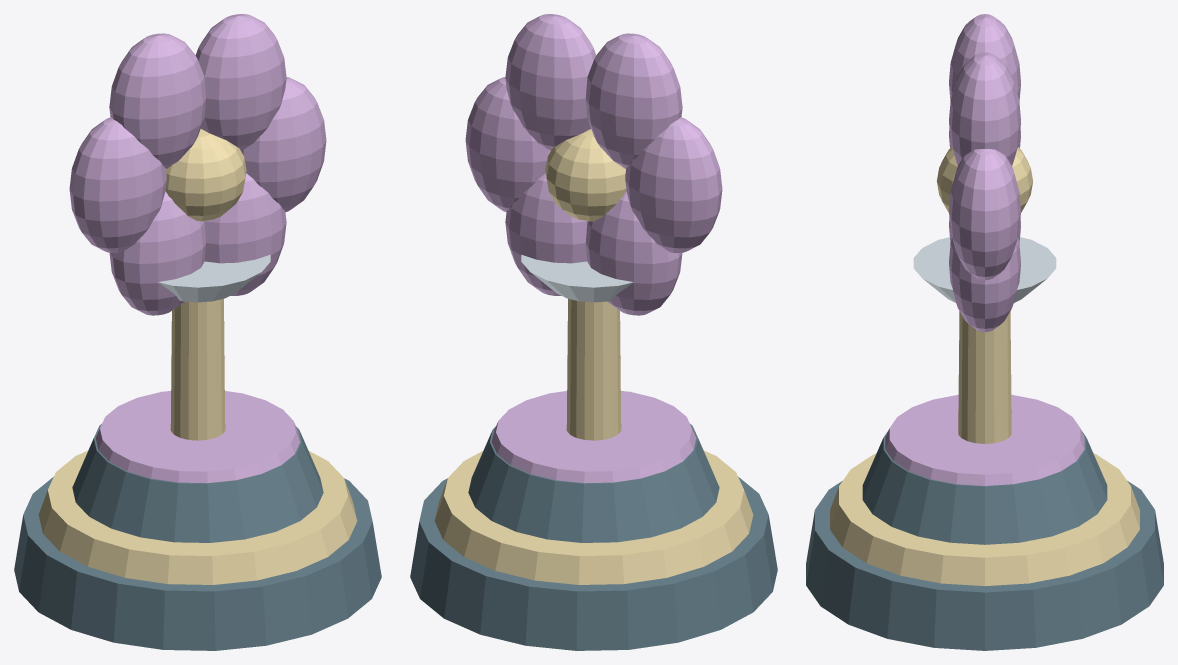
File: magnolia-bowl.glb
The picture shows the model from 3 angles, left to right: view 1: azimuth 30°, elevation 25°; view 2: azimuth 150°, elevation 25°; view 3: azimuth 270°, elevation 25°; orthographic projection.
Bounding box in the file's own units: 1.2 × 1.97 × 1.19.
